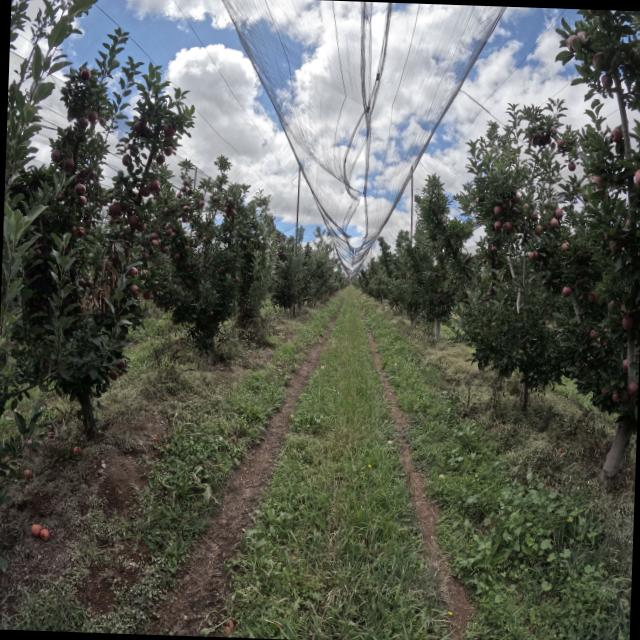-FireBlight-: (81, 238, 120, 320)
